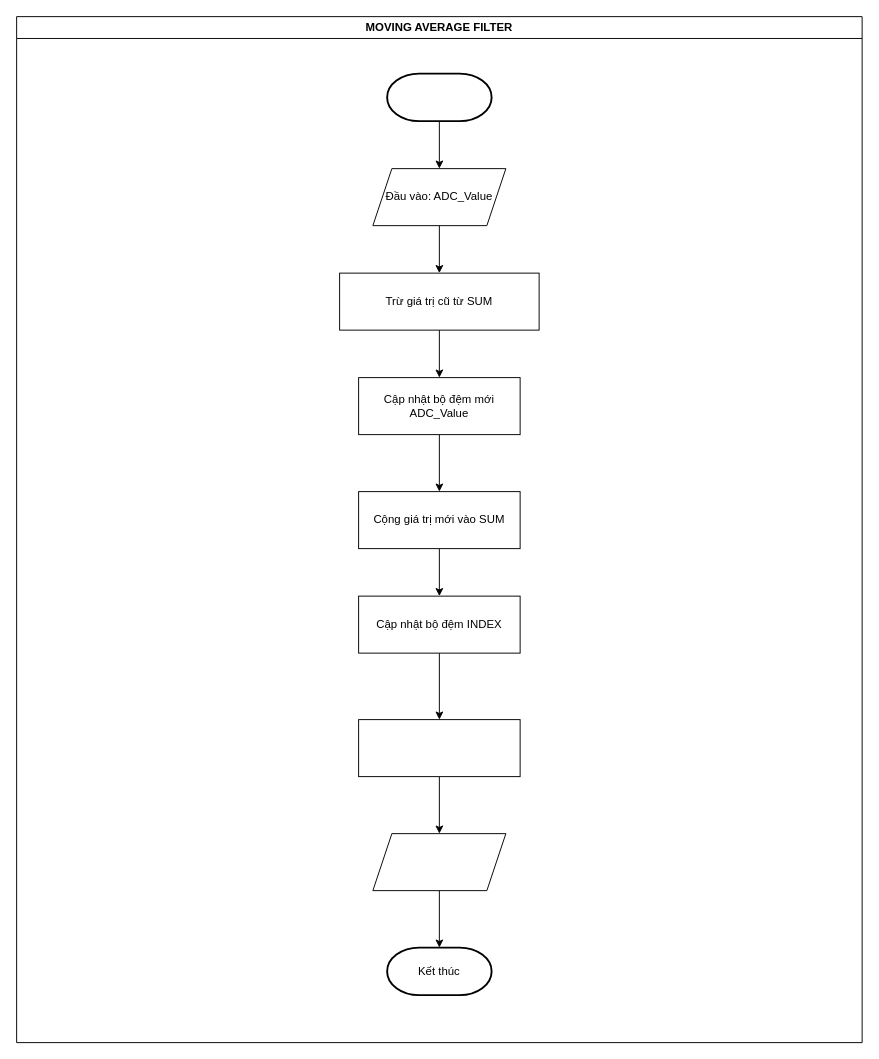
The diagram is 879 pixels wide and 1059 high, and some of its shapes have lost their labels. The centre of each missing label's shape, as x and y in pixels:
Bắt đầu: the point at 439,97
Tính toán trung bình: the point at 439,748
Đầu ra: average: the point at 439,862
